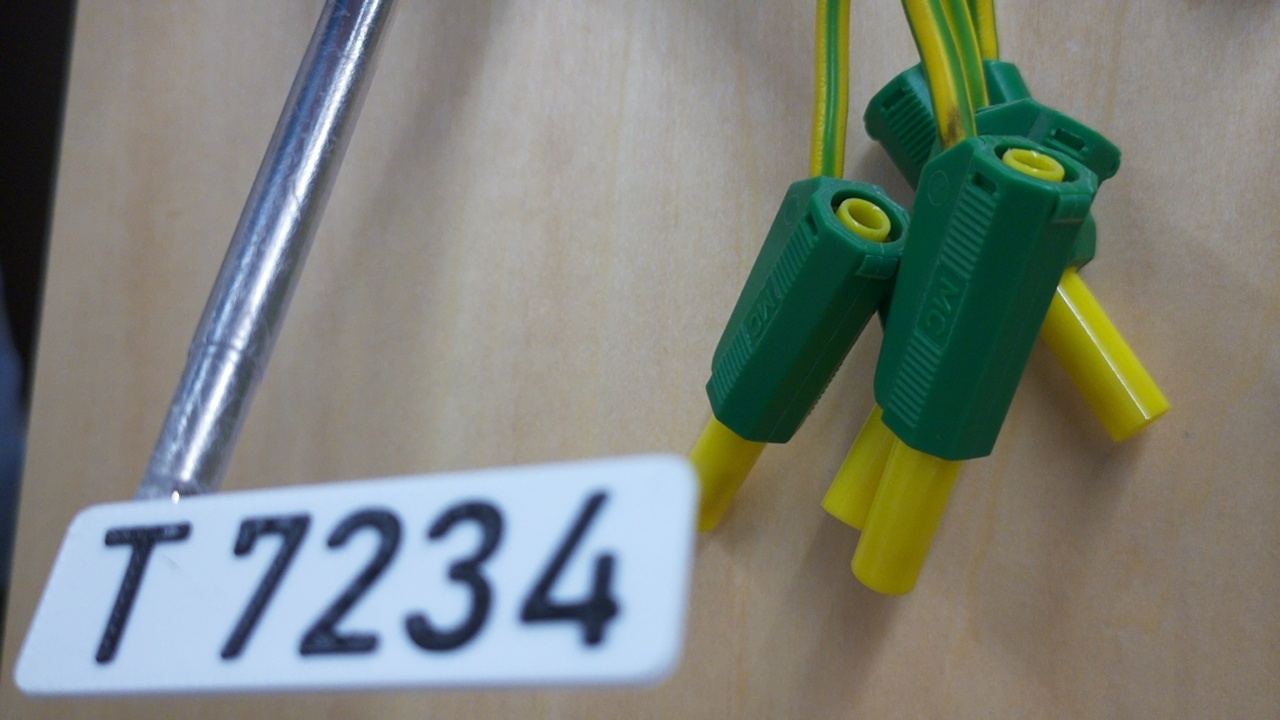license_plate: (9, 449, 706, 702)
